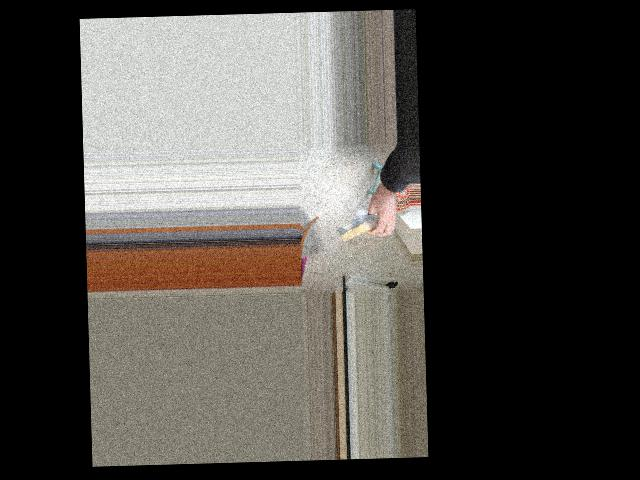cheese: (333, 208, 388, 245)
